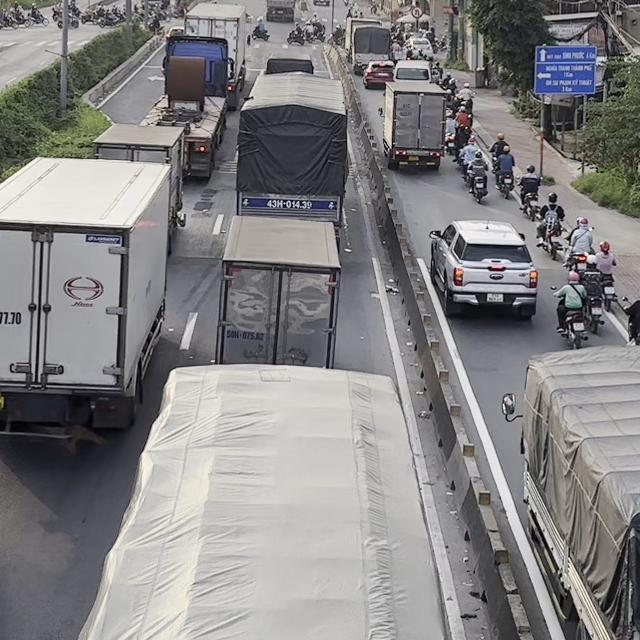car: (428, 218, 538, 319), (362, 60, 394, 89)
motorcycle: (549, 285, 589, 349), (562, 226, 595, 273), (516, 175, 544, 221), (536, 214, 564, 260), (582, 284, 605, 334), (466, 161, 490, 203), (599, 273, 617, 312), (494, 168, 515, 199)
truck: (0, 155, 173, 438), (503, 342, 639, 639), (214, 214, 342, 368), (235, 70, 349, 242), (138, 34, 235, 183), (91, 122, 187, 253), (183, 1, 251, 110), (378, 80, 450, 171)
